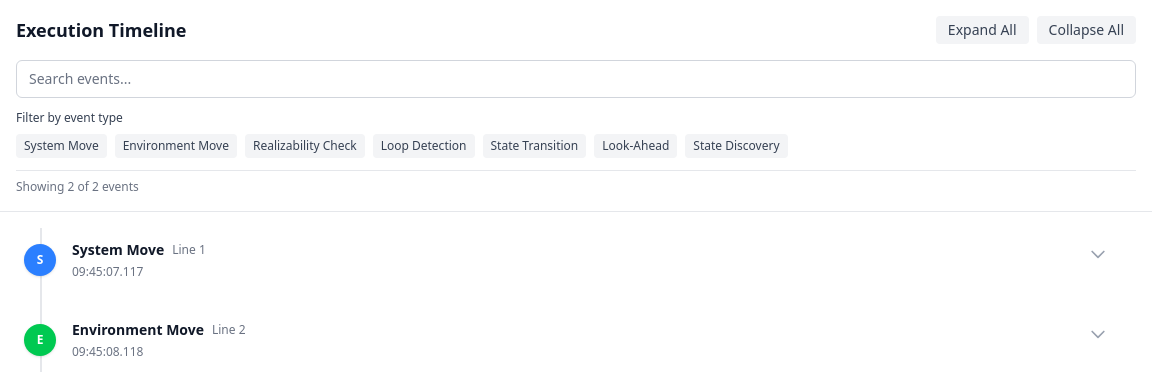
Test: Timeline Component › should filter events by type
Click the button "System Move".
click(61, 146)  # box [16, 134, 107, 158]
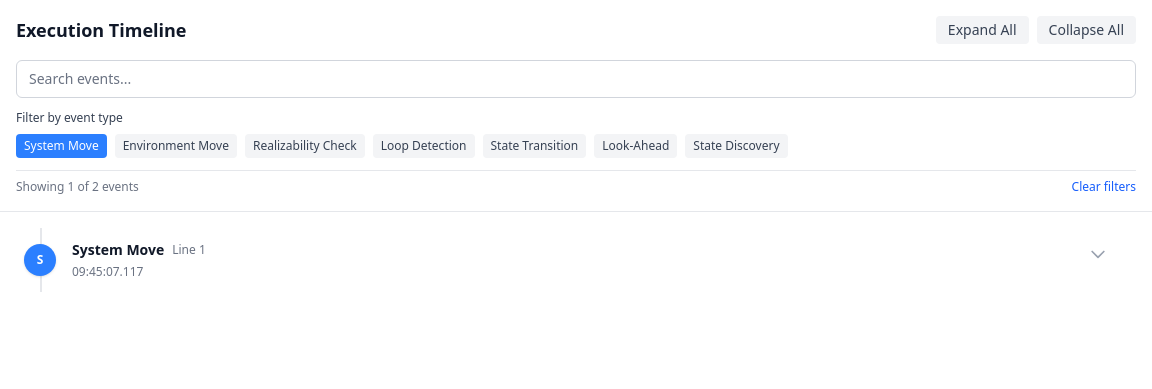
Expected: the text "Showing 1 of 2 events" is shown, [16, 179, 139, 195]
